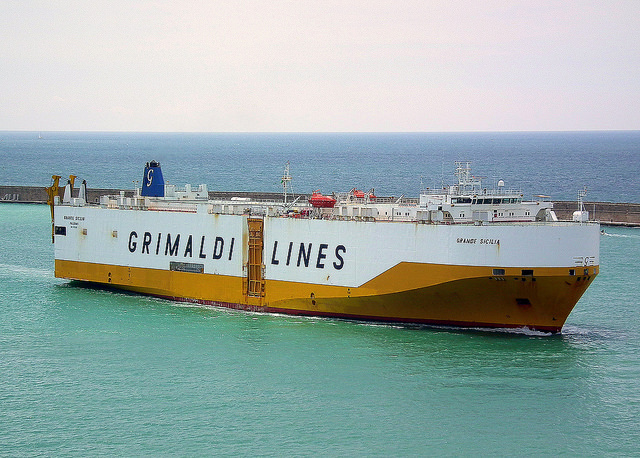PCC: (51, 164, 606, 340)
